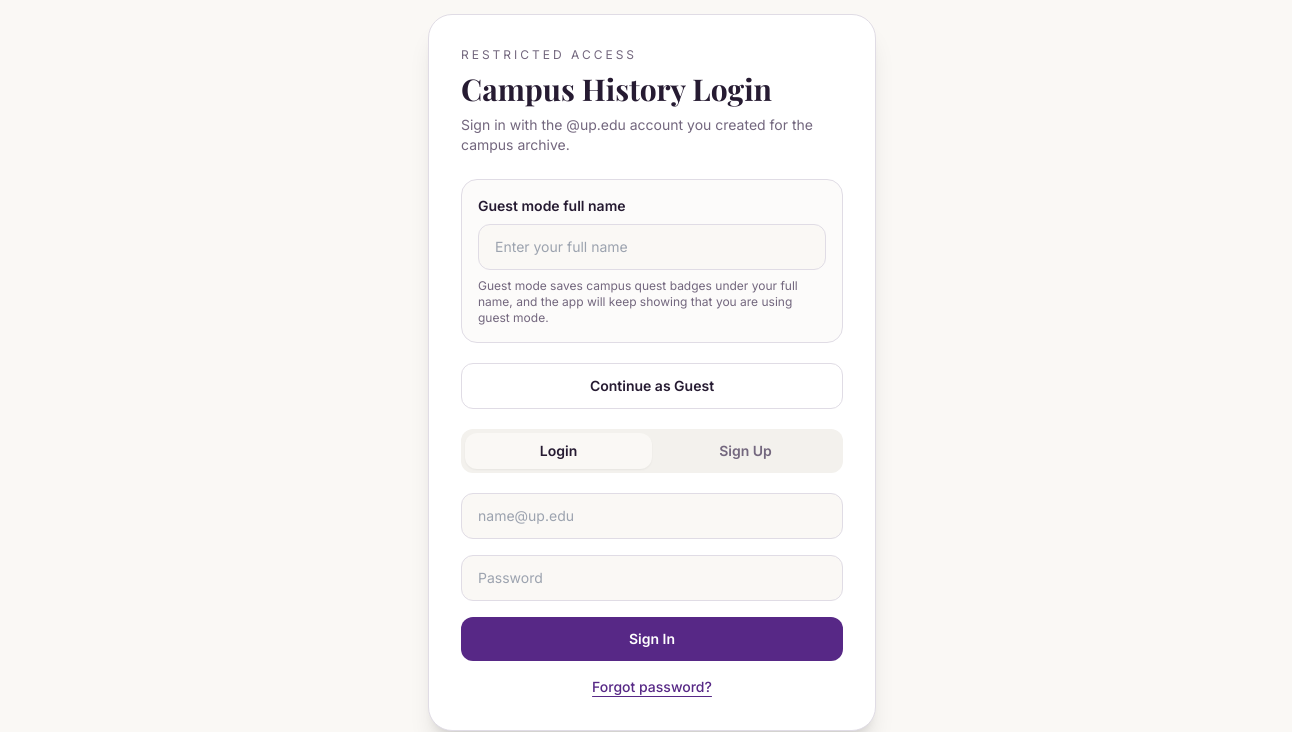
LoginGate › lets a user continue in guest mode
The width and height of the screenshot is (1292, 732).
Check: the heading "Campus History Login" is shown, box [461,68,772,108]
Type "Makengo Lokombo" into the field with placeholder "Enter your full name". click: (652, 246)
box: [478,224,826,270]
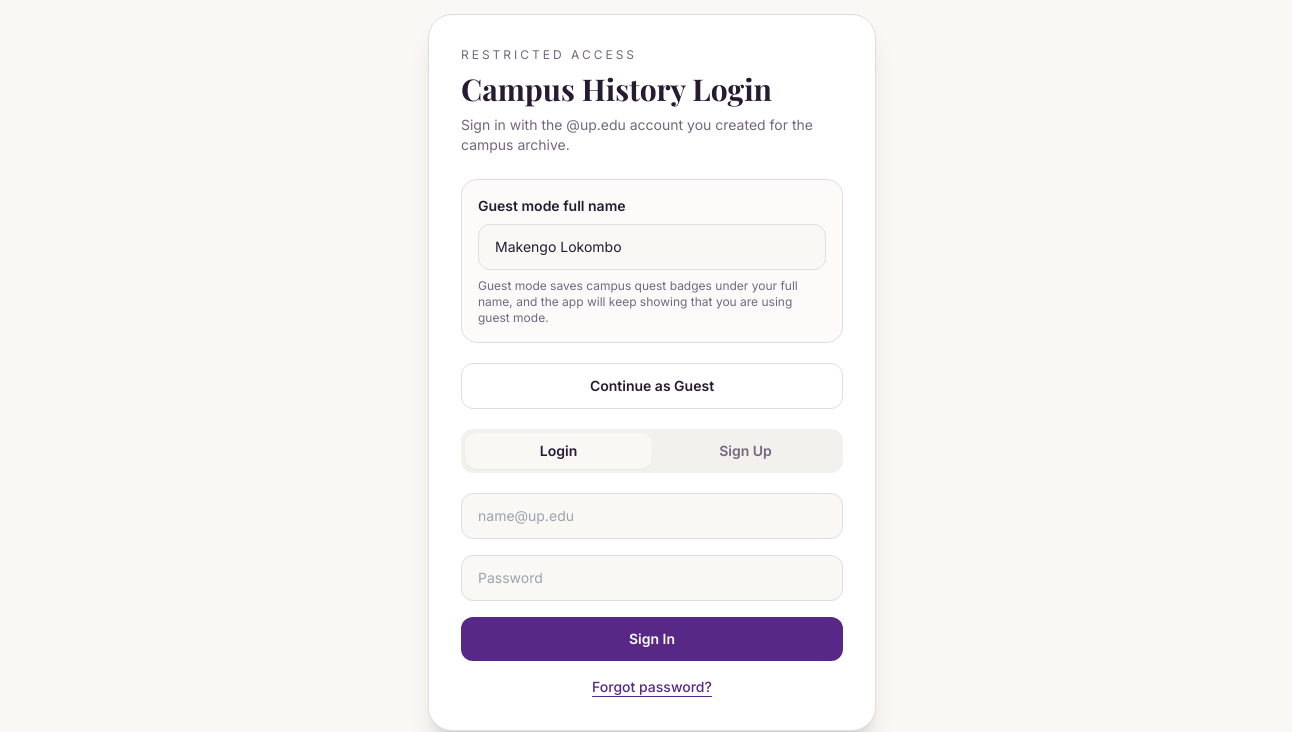
Click the button "Continue as Guest". click: (652, 386)
box: [461,362,843,408]
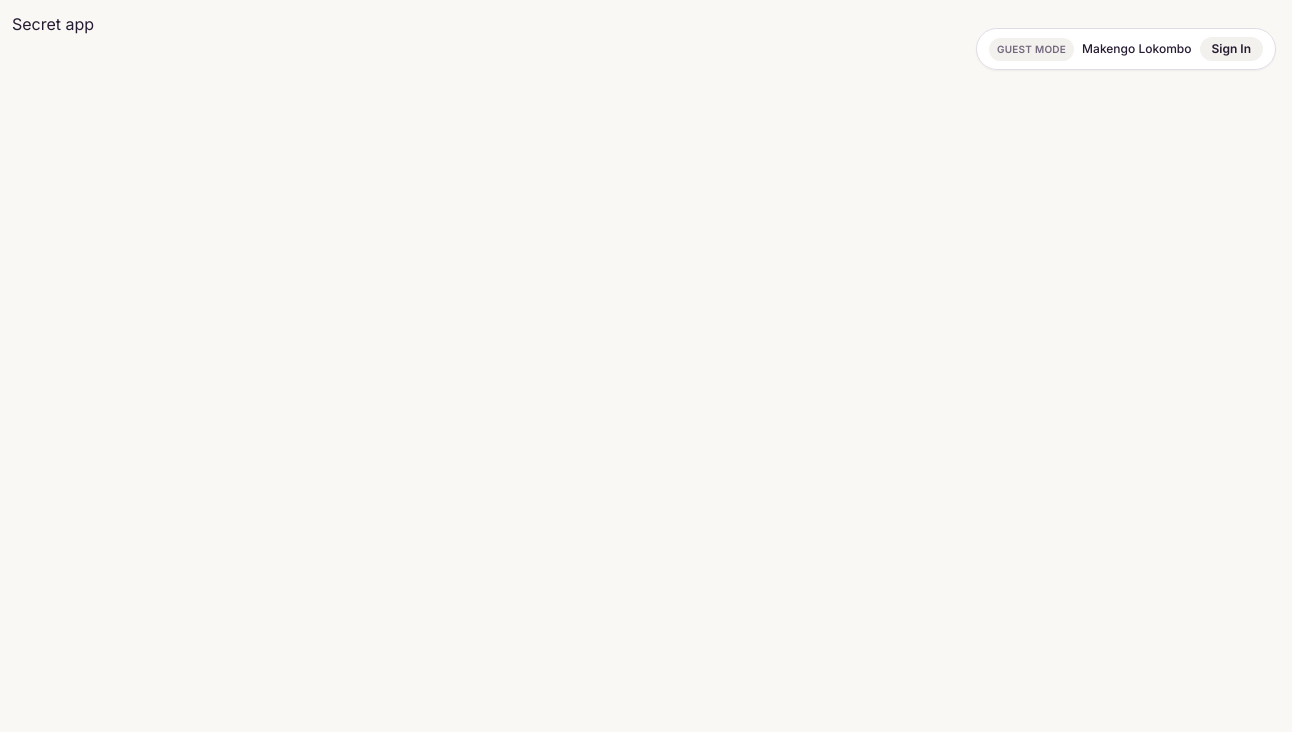
Check: the text "Guest Mode" is shown, box [989,38,1074,60]
Check: the text "Makengo Lokombo" is shown, box [1082,41,1192,57]
Check: the text "Secret app" is shown, box [12,14,94,34]
